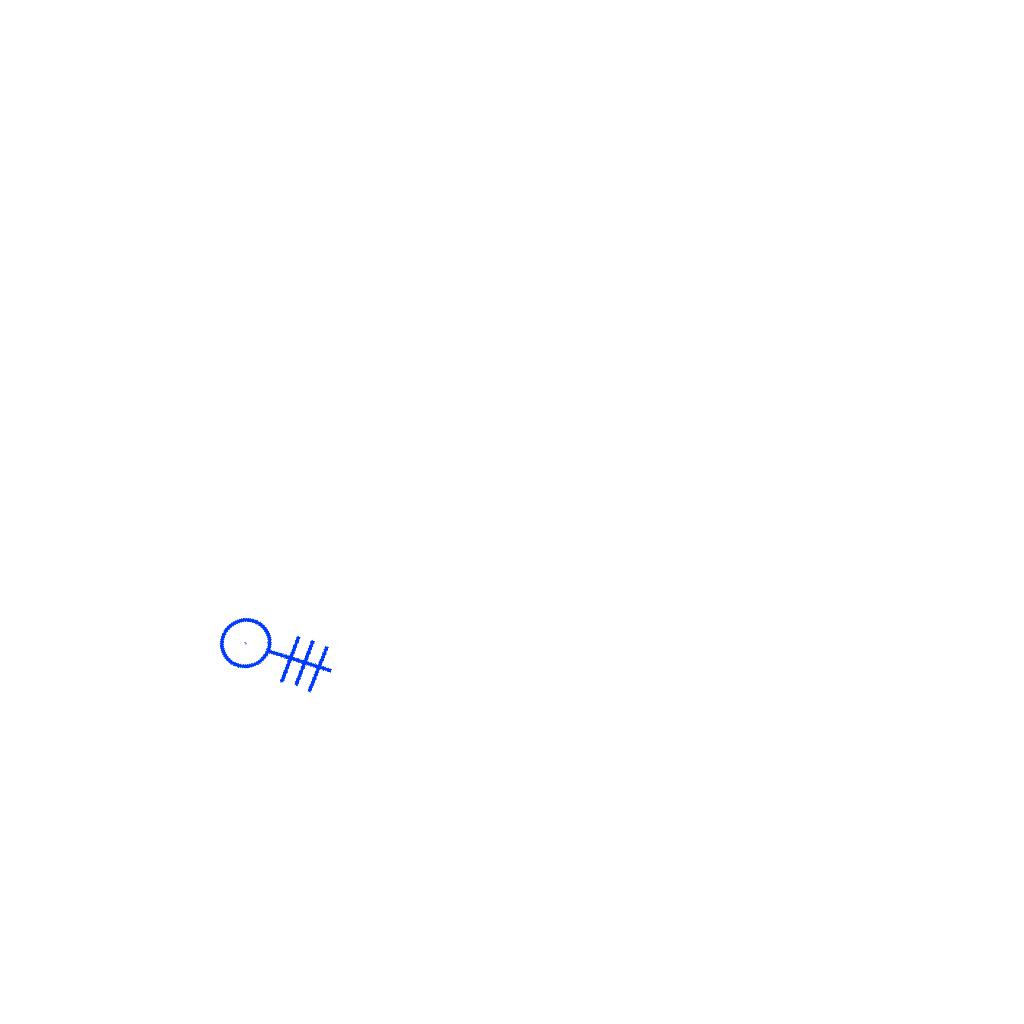Elektroanschluss_allgemein_400V_Geraeteanschlussdose_400V: (202, 567, 356, 722)
